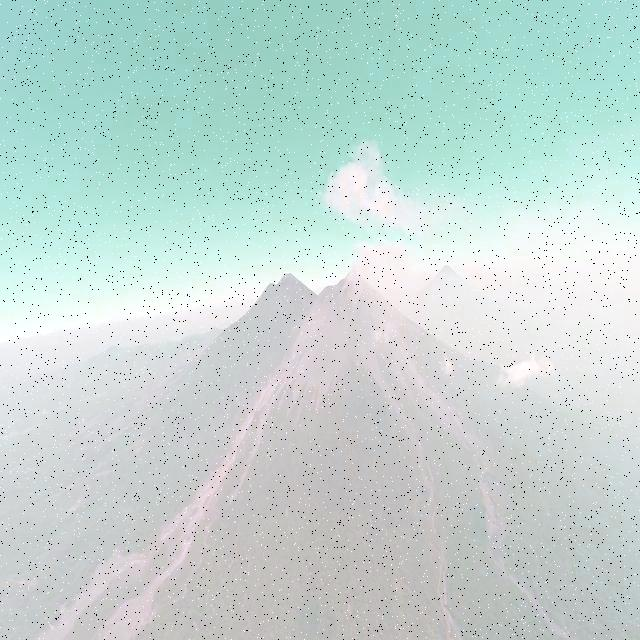Plume: (322, 132, 464, 247)
Summit: (344, 268, 366, 282)
